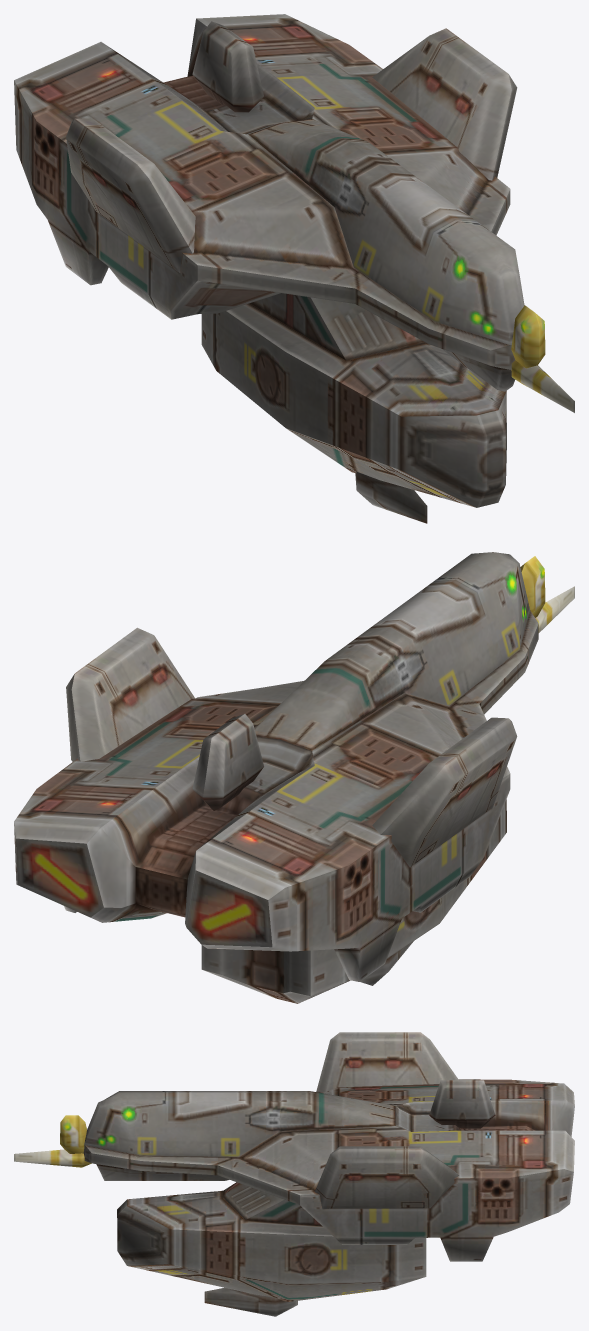
The model's file is tan_sf_plbo_01_t3.glb.
The picture shows the model from 3 angles, top to bottom: view 1: azimuth 30°, elevation 25°; view 2: azimuth 150°, elevation 25°; view 3: azimuth 270°, elevation 25°; orthographic projection. The views are drawn at different scales.
Parts seen in each view (by area): view 1: tan_plasma_bomber_01_LOD0; view 2: tan_plasma_bomber_01_LOD0; view 3: tan_plasma_bomber_01_LOD0.
Boxes of the visible parts, x1=… form: tan_plasma_bomber_01_LOD0: x1=14, y1=14, x2=574, y2=523; tan_plasma_bomber_01_LOD0: x1=14, y1=552, x2=574, y2=1003; tan_plasma_bomber_01_LOD0: x1=14, y1=1032, x2=574, y2=1316.
Size of what is drawn, in the model's own units: 0.2204 by 0.1981 by 0.4257.
Materials: 1 (1 with a texture image).
